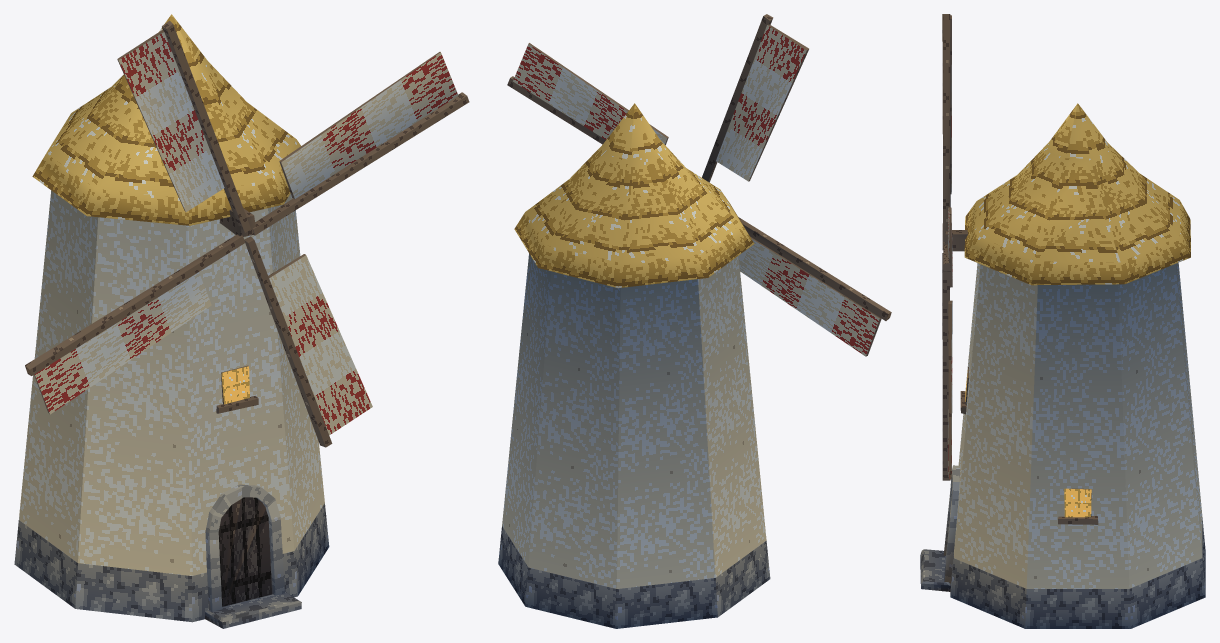
The model's file is vlg.mill.glb.
The picture shows the model from 3 angles, left to right: view 1: azimuth 30°, elevation 25°; view 2: azimuth 150°, elevation 25°; view 3: azimuth 270°, elevation 25°; orthographic projection. The views are drawn at different scales.
Parts seen in each view (by area): view 1: kit_walls, kit_fittings, kit_roof, kit_frame; view 2: kit_walls, kit_roof, kit_fittings, kit_frame; view 3: kit_walls, kit_roof, kit_fittings, kit_frame.
Part boxes in pixels (box(x1,y1,x2,y2)): kit_walls: box(14, 190, 329, 622); kit_fittings: box(34, 30, 458, 628); kit_roof: box(32, 14, 300, 225); kit_frame: box(25, 20, 469, 447); kit_walls: box(498, 253, 770, 628); kit_roof: box(514, 103, 754, 288); kit_fittings: box(513, 24, 881, 356); kit_frame: box(507, 14, 891, 320); kit_walls: box(950, 262, 1205, 628); kit_roof: box(964, 103, 1190, 285); kit_fittings: box(920, 15, 1098, 591); kit_frame: box(942, 14, 967, 480).
Bounding box in the file's own units: 8.33 × 10.99 × 5.37.
9 materials, 9 textured.
